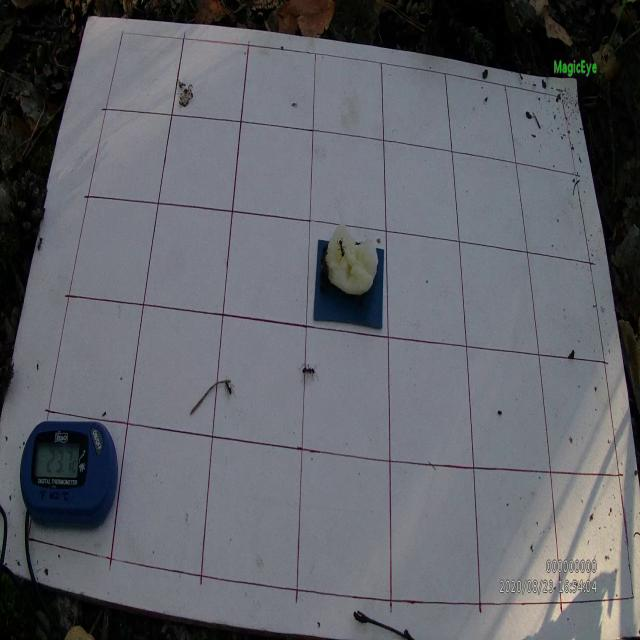Ant: (298, 363, 317, 382), (224, 377, 234, 400), (337, 238, 346, 260), (37, 234, 44, 251)
